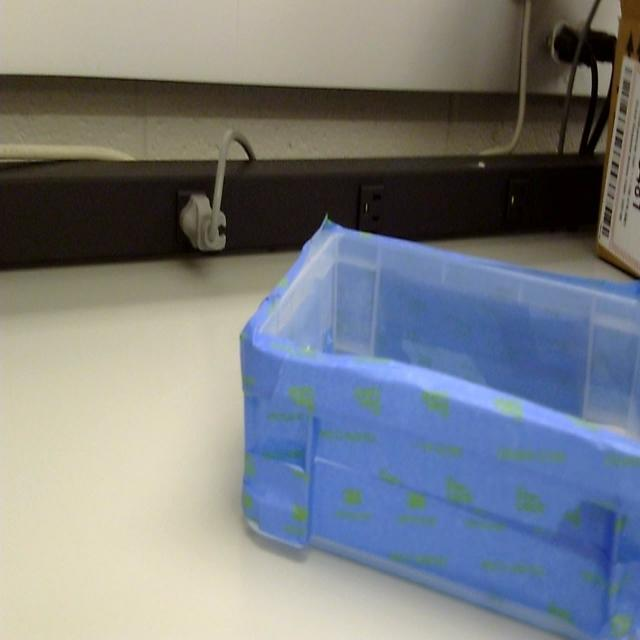bucket: (238, 220, 640, 640)
